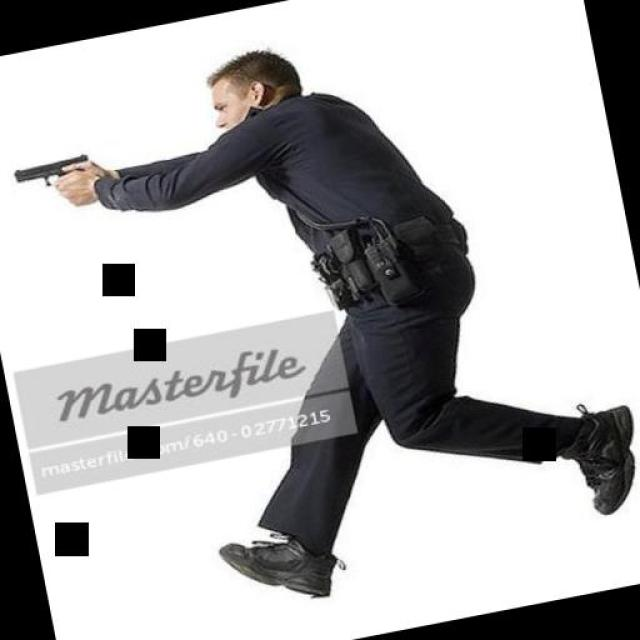gun: (9, 144, 115, 218)
